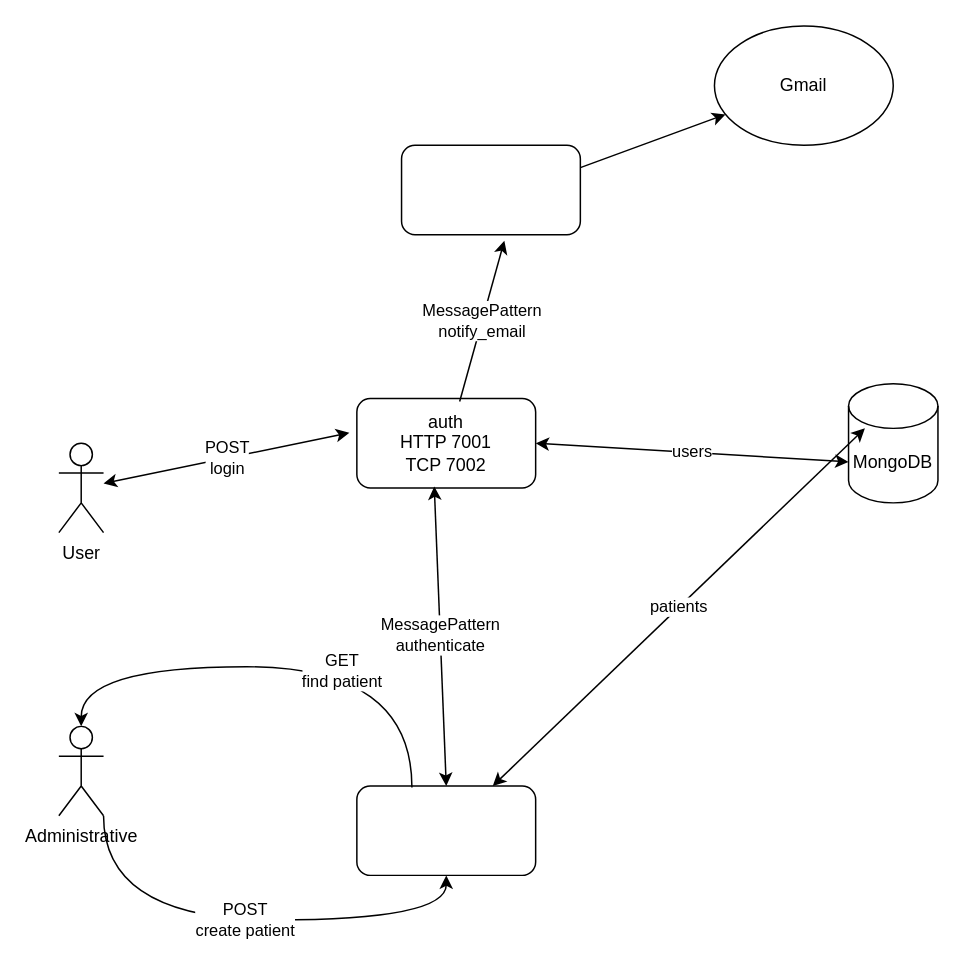
This 964x966 diagram has some shape labels left out. The centre of each missing label's shape, as x and y in pixels:
notifications TCP 7003: [490,189]
patients HTTP 7004 TCP 7005: [445,829]
